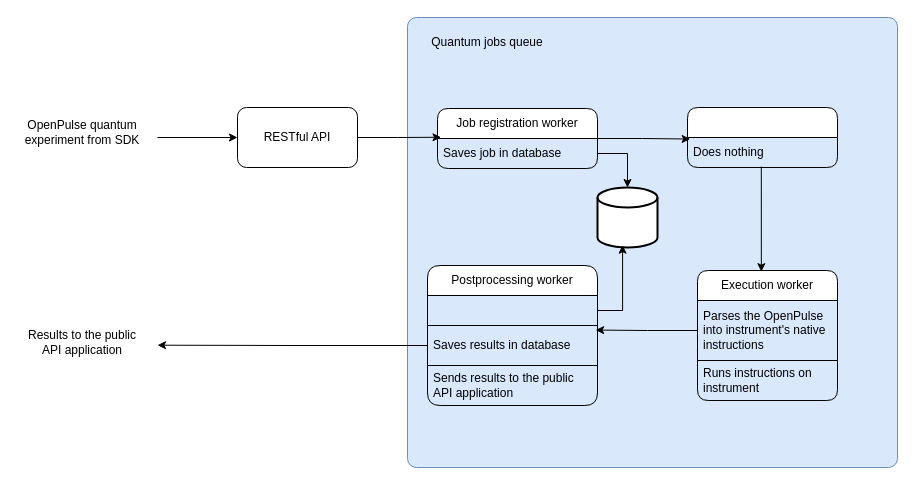
This 915x485 diagram has some shape labels left out. The box of each missing label's shape, as (x1, y1, x2, y2) in pixels:
database: (596, 186, 658, 248)
May discriminate results: (426, 294, 598, 326)
Preprocessing worker: (686, 106, 838, 168)
